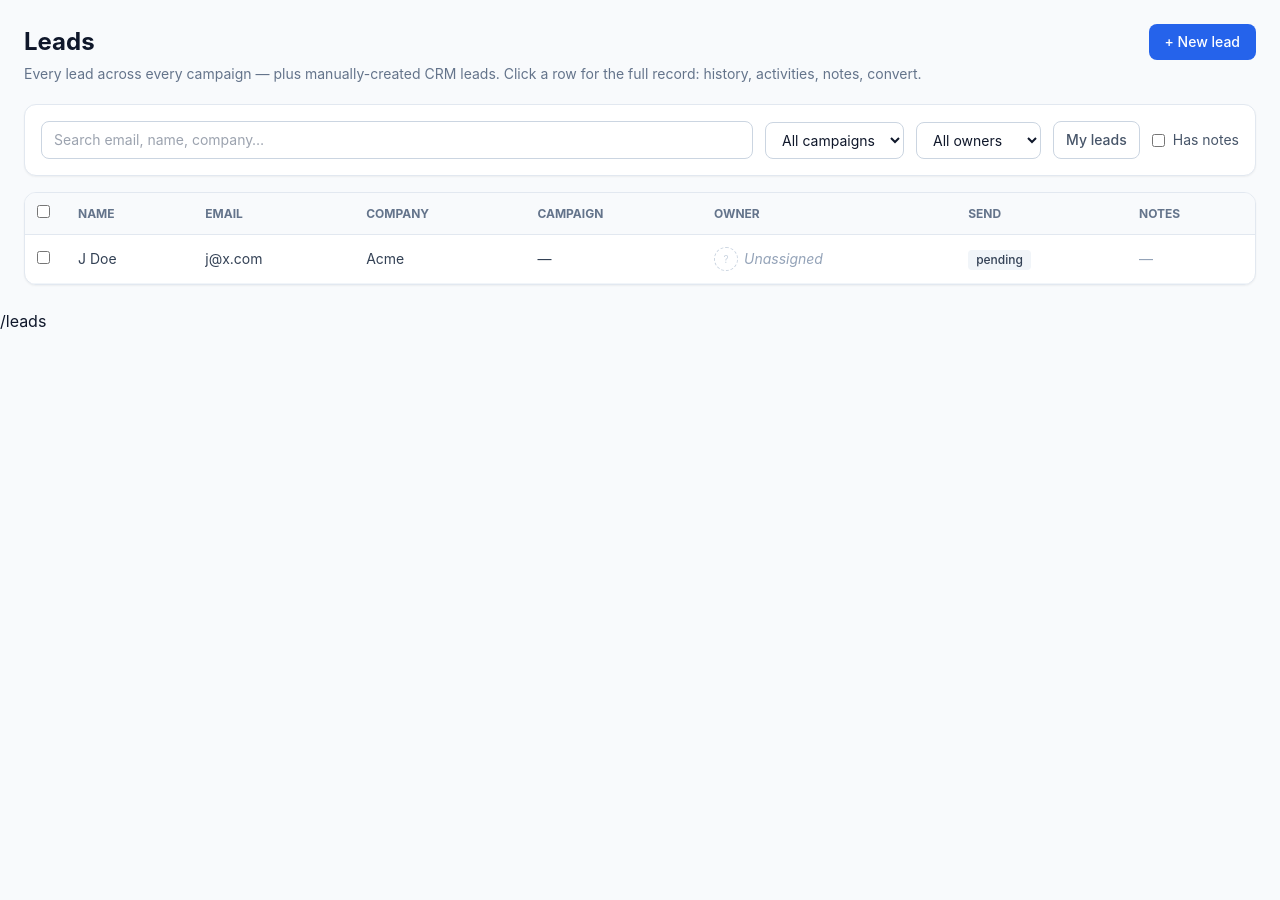
Test: Leads page › edits and saves contact details via updateLeadFields
Click the row with test id "lead-row-l9" at (640, 259), box [25,234,1255,284]
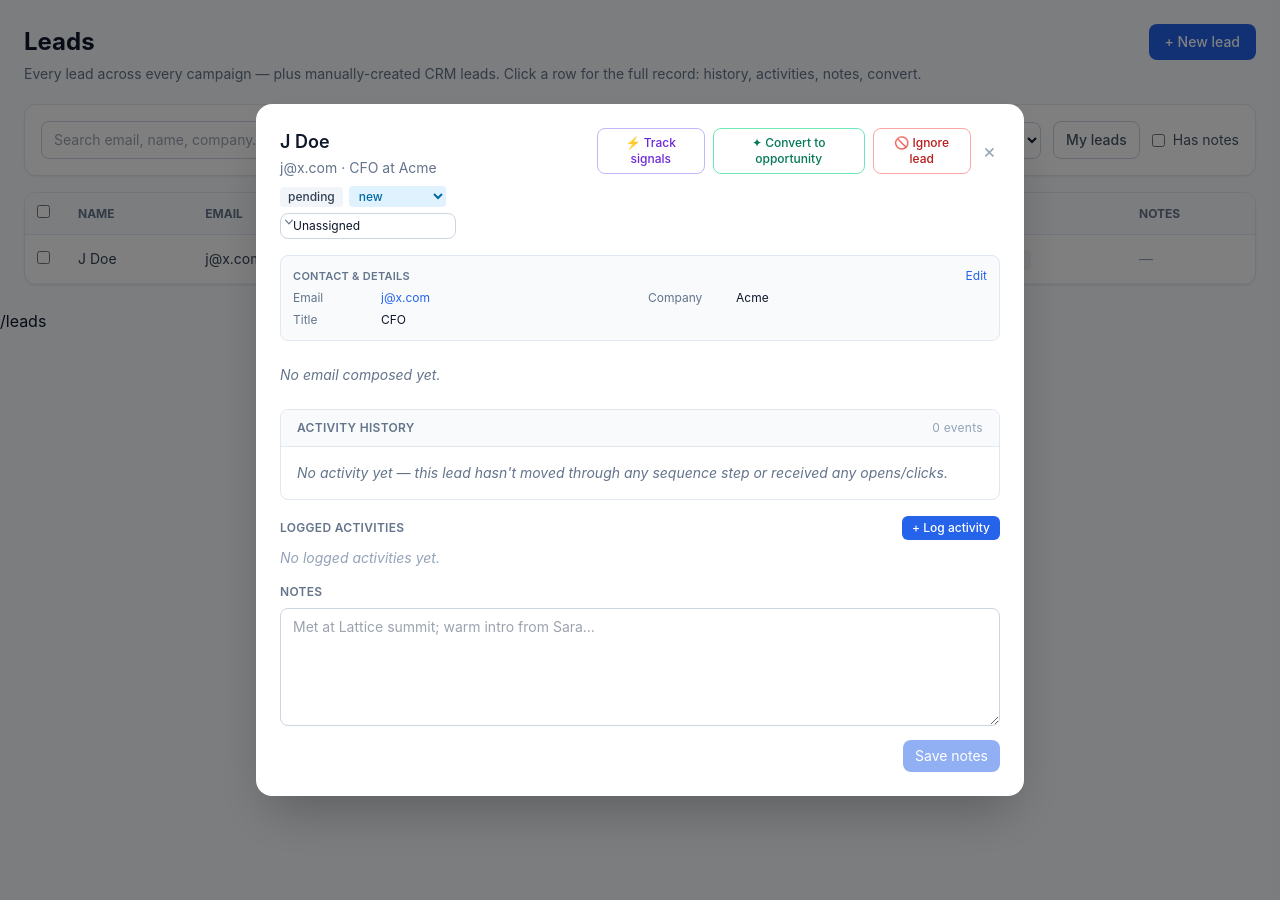
Click the button with test id "lead-edit-contact-btn" at (976, 276), box [966,268,987,284]
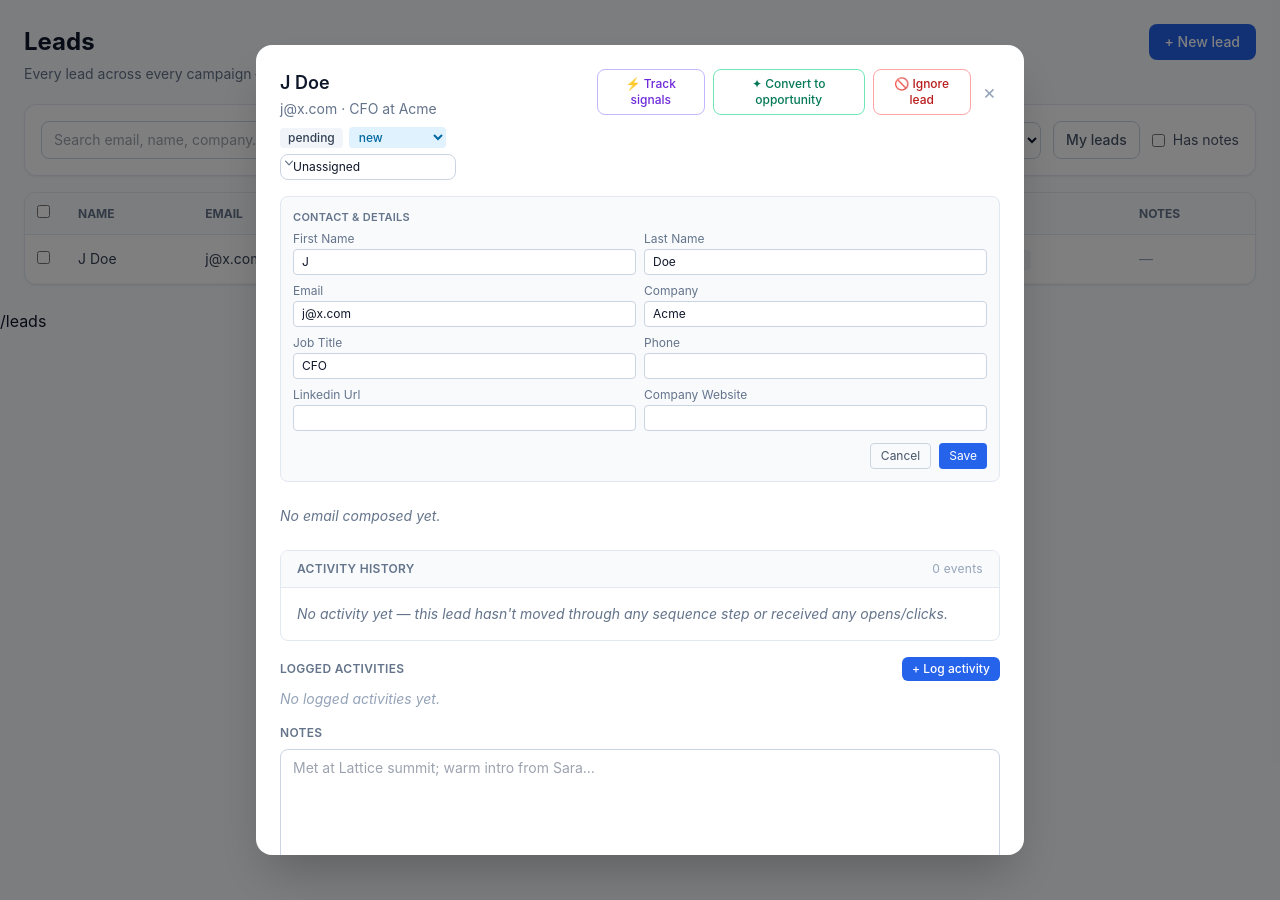
Replace the text in the field with test id "lead-edit-company" with "NewCo" at (816, 314), box [644,301,987,327]
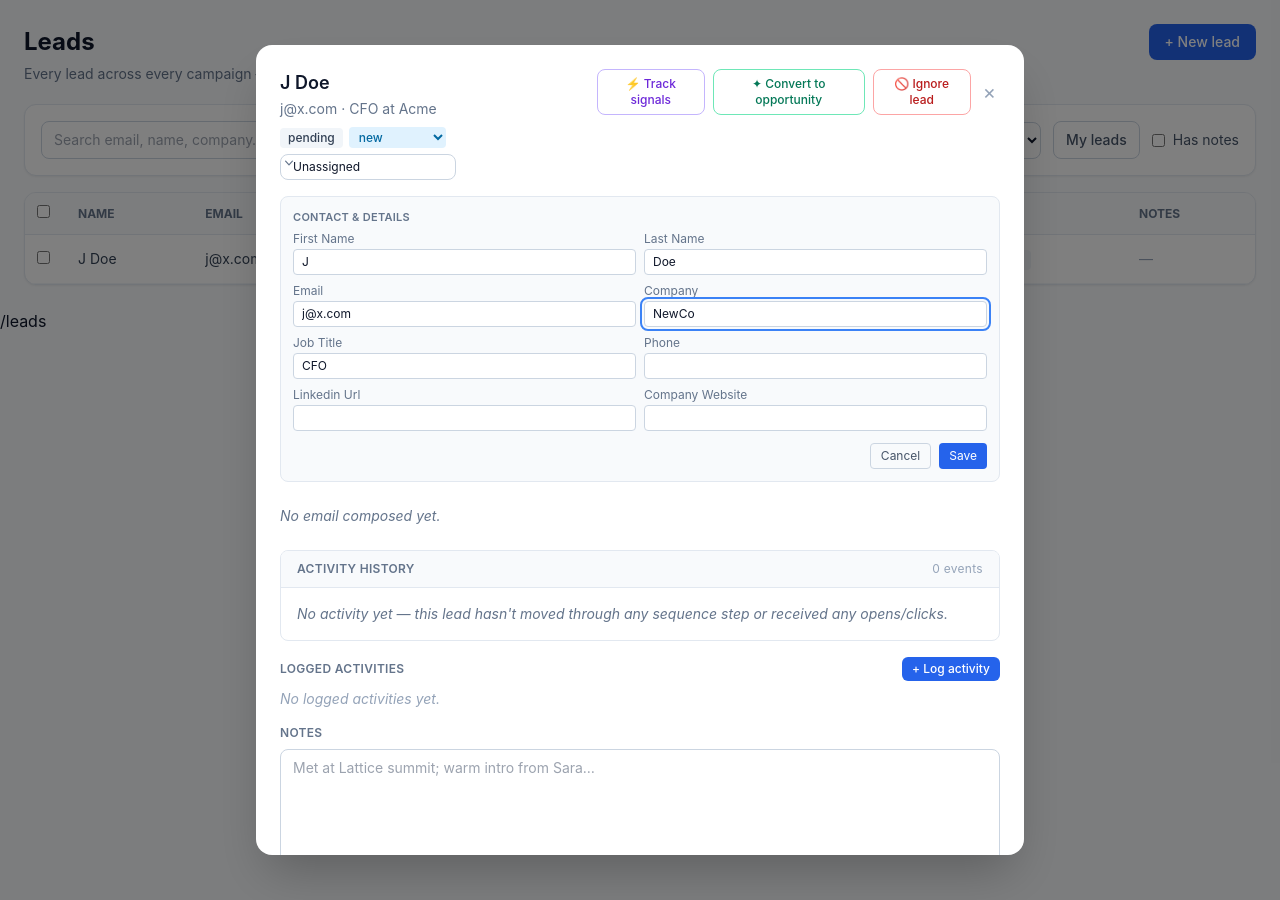
Click the button with test id "lead-edit-save-btn" at (963, 456), box [939,443,987,469]
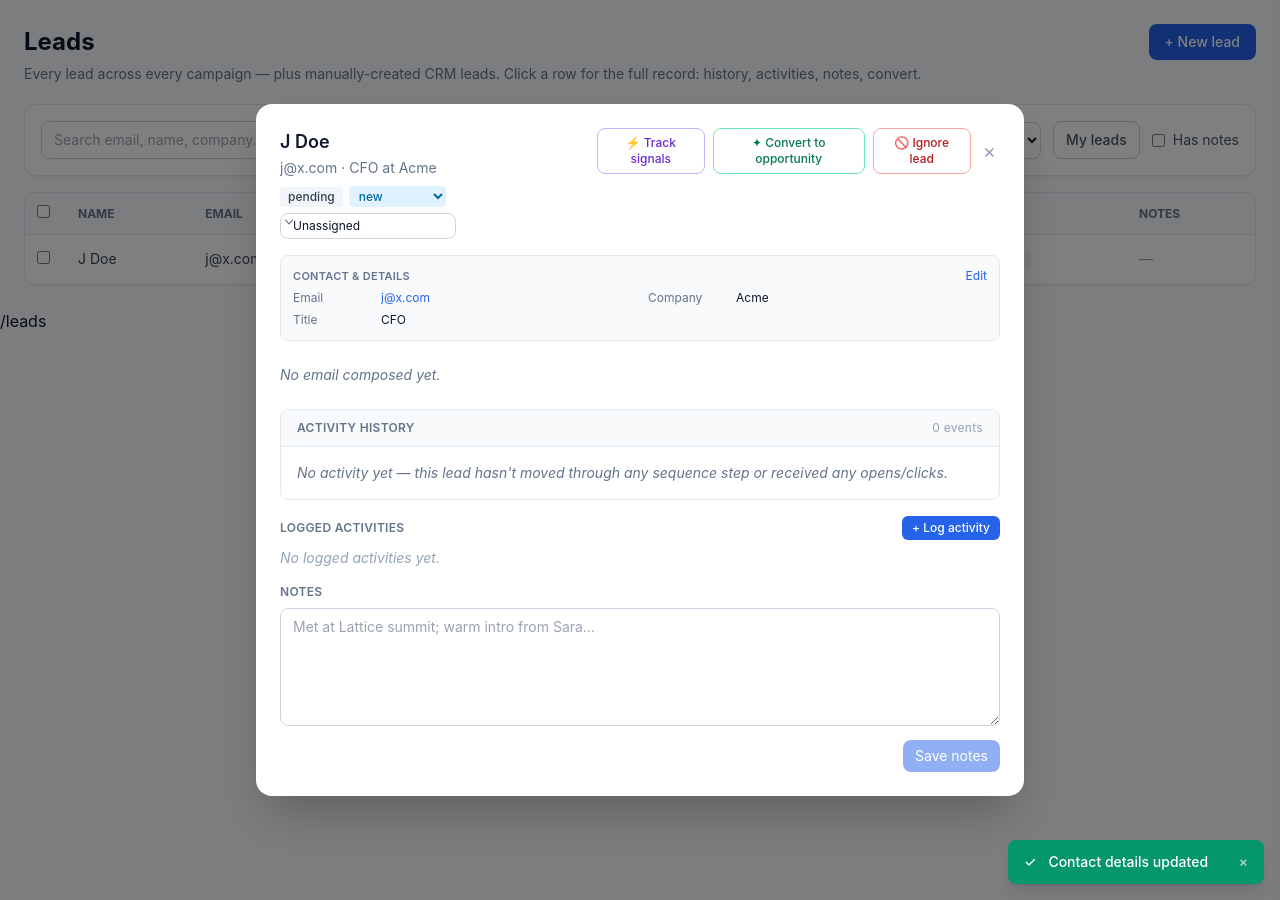
Expected: the cell "j@x.com" is shown, [189,234,350,284]
Now the text "CFO" is shown, box [381,312,406,328]
